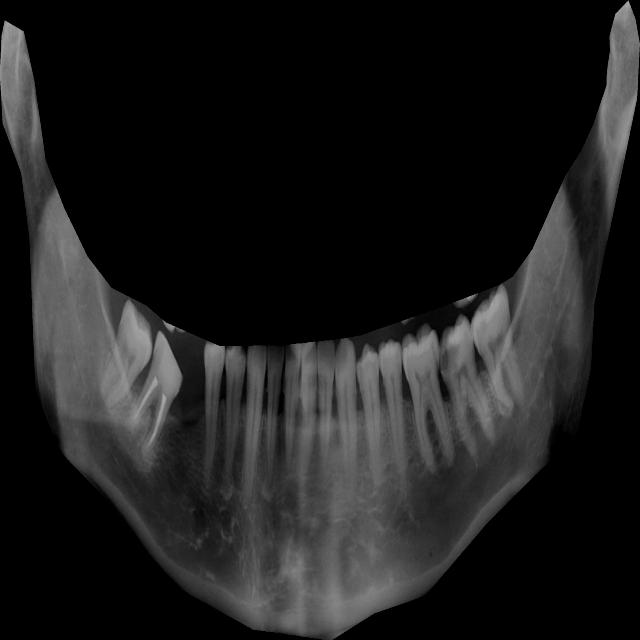mandibula: (0, 0, 640, 640)
